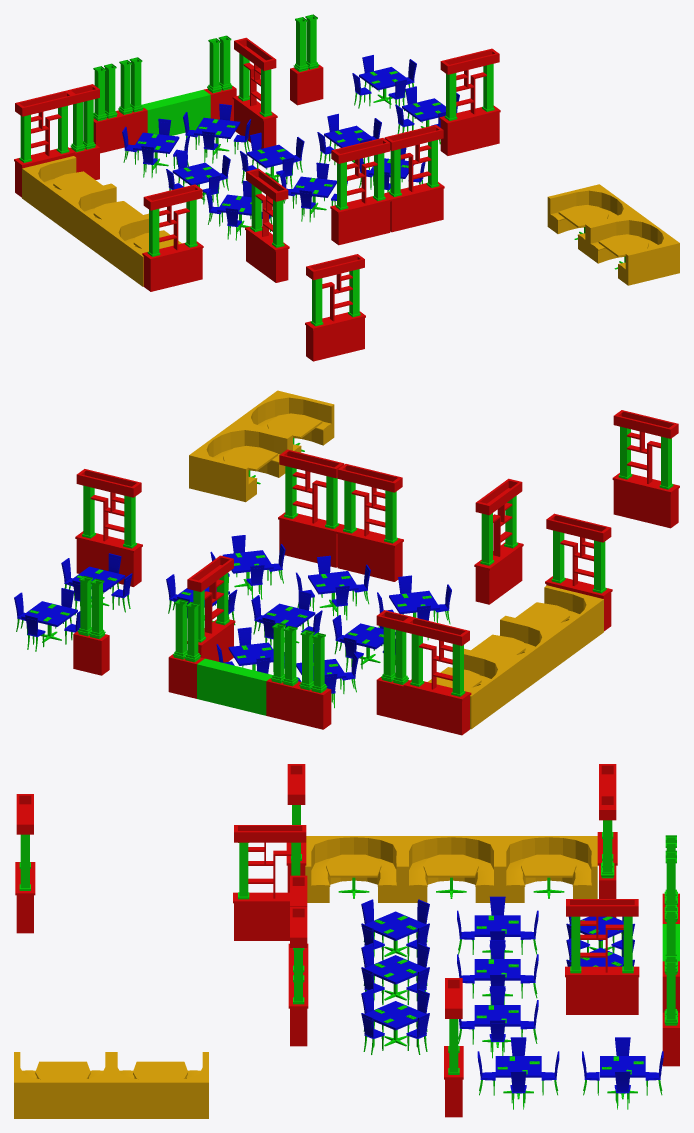
The model's file is Rest_DA_TablesDividersBooths_v01.fbx.
3 renders of one model, top to bottom at view 1: azimuth 30°, elevation 25°; view 2: azimuth 150°, elevation 25°; view 3: azimuth 270°, elevation 25°, orthographic. The views are drawn at different scales.
Visible parts, largest first — view 1: Rest_DA_Set04_Booth_Seat3, Rest_DA_Set04_Booth_Seat, Rest_DA_Set04_Booth_Seat1, Rest_DA_Set04_Booth_Seat4, Rest_DA_Set04_Booth_Seat2, Rest_DA_Set02_Divider_Plain_01, Rest_DA_Set03_Divider_Bottom10, Rest_DA_Set03_Divider_Bottom8, Rest_DA_Set03_Divider_Bottom7, Rest_DA_Set03_Divider_Bottom11, Rest_DA_Set03_Divider_Bottom12, Rest_DA_Set03_Divider_Bottom9 (+39 smaller); view 2: Rest_DA_Set04_Booth_Seat4, Rest_DA_Set02_Divider_Plain_01, Rest_DA_Set04_Booth_Seat2, Rest_DA_Set04_Booth_Seat1, Rest_DA_Set04_Booth_Seat3, Rest_DA_Set04_Booth_Seat, Rest_DA_Set03_Divider_Bottom11, Rest_DA_Set03_Divider_Bottom5, Rest_DA_Set03_Divider_Bottom10, Rest_DA_Set03_Divider_Bottom12, Rest_DA_Set03_Divider_Bottom7, Rest_DA_Set03_Divider_Bottom9 (+53 smaller); view 3: Rest_DA_Set04_Booth_Seat4, Rest_DA_Set04_Booth_Seat3, Rest_DA_Set04_Booth_Seat1, Rest_DA_Set04_Booth_Seat2, Rest_DA_Set04_Booth_Seat, Rest_DA_Set03_Divider_Bottom, Rest_DA_Set03_Divider_Bottom9, Rest_DA_Set03_Divider_Top, Rest_DA_Set03_Divider_Top5, Rest_DA_Set04_Booth_Table1, Rest_DA_Set04_Booth_Table, Rest_DA_Set04_Booth_Table2 (+34 smaller).
Part boxes in pixels (<box>): Rest_DA_Set04_Booth_Seat3: <box>588,213,679,285</box>; Rest_DA_Set04_Booth_Seat: <box>22,156,113,227</box>; Rest_DA_Set04_Booth_Seat1: <box>62,185,148,256</box>; Rest_DA_Set04_Booth_Seat4: <box>547,184,639,255</box>; Rest_DA_Set04_Booth_Seat2: <box>102,216,148,286</box>; Rest_DA_Set02_Divider_Plain_01: <box>142,89,210,135</box>; Rest_DA_Set03_Divider_Bottom10: <box>331,202,390,245</box>; Rest_DA_Set03_Divider_Bottom8: <box>143,248,202,291</box>; Rest_DA_Set03_Divider_Bottom7: <box>440,112,499,155</box>; Rest_DA_Set03_Divider_Bottom11: <box>306,318,364,361</box>; Rest_DA_Set03_Divider_Bottom12: <box>390,188,443,232</box>; Rest_DA_Set03_Divider_Bottom9: <box>246,230,288,282</box>; Rest_DA_Set04_Booth_Seat4: <box>189,423,290,502</box>; Rest_DA_Set02_Divider_Plain_01: <box>197,658,272,715</box>; Rest_DA_Set04_Booth_Seat2: <box>503,585,603,664</box>; Rest_DA_Set04_Booth_Seat1: <box>464,618,559,696</box>; Rest_DA_Set04_Booth_Seat3: <box>233,390,334,452</box>; Rest_DA_Set04_Booth_Seat: <box>464,651,515,729</box>; Rest_DA_Set03_Divider_Bottom11: <box>613,480,678,528</box>; Rest_DA_Set03_Divider_Bottom5: <box>405,687,469,735</box>; Rest_DA_Set03_Divider_Bottom10: <box>337,534,402,581</box>; Rest_DA_Set03_Divider_Bottom12: <box>279,520,337,567</box>; Rest_DA_Set03_Divider_Bottom7: <box>76,539,141,586</box>; Rest_DA_Set03_Divider_Bottom9: <box>475,547,522,604</box>; Rest_DA_Set04_Booth_Seat4: <box>111,1052,208,1118</box>; Rest_DA_Set04_Booth_Seat3: <box>14,1052,111,1118</box>; Rest_DA_Set04_Booth_Seat1: <box>402,836,500,902</box>; Rest_DA_Set04_Booth_Seat2: <box>305,836,402,902</box>; Rest_DA_Set04_Booth_Seat: <box>500,836,597,902</box>; Rest_DA_Set03_Divider_Bottom: <box>566,977,638,1014</box>; Rest_DA_Set03_Divider_Bottom9: <box>234,903,289,940</box>; Rest_DA_Set03_Divider_Top: <box>566,899,638,916</box>; Rest_DA_Set03_Divider_Top5: <box>234,825,306,842</box>; Rest_DA_Set04_Booth_Table1: <box>423,854,478,877</box>; Rest_DA_Set04_Booth_Table: <box>521,854,576,877</box>; Rest_DA_Set04_Booth_Table2: <box>326,854,381,877</box>.
Bounding box in the file's own units: 634 × 130 × 724.
